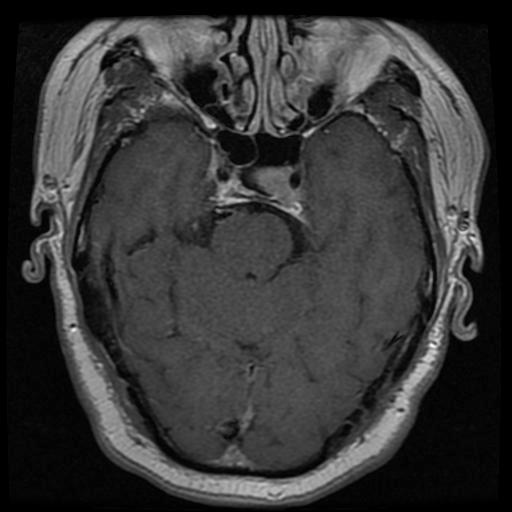Tumour-Pituitary: (207, 158, 311, 220)
